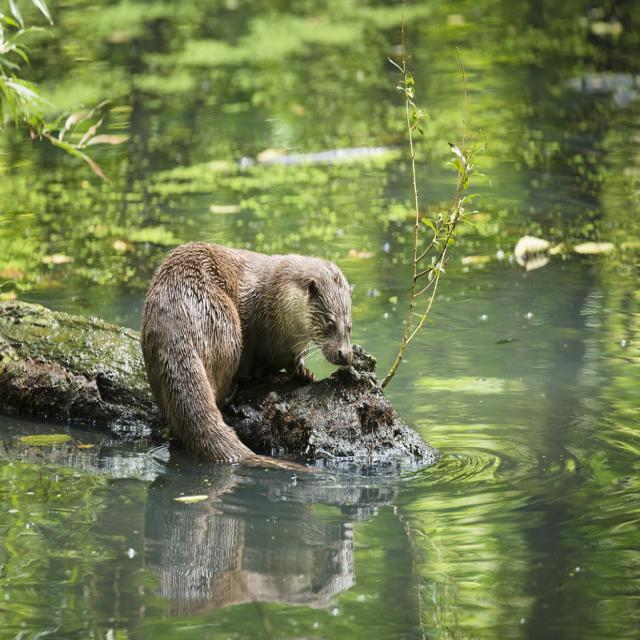otter: (143, 240, 357, 461)
